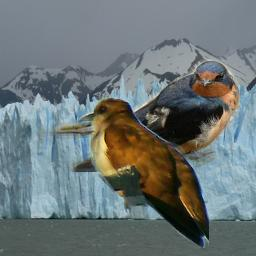Cuckoo: (79, 97, 209, 250)
Swallow: (37, 59, 240, 172)
